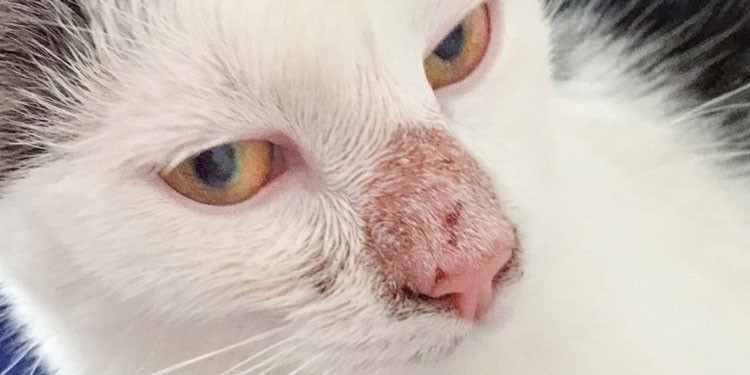ringworm: (363, 125, 523, 315)
